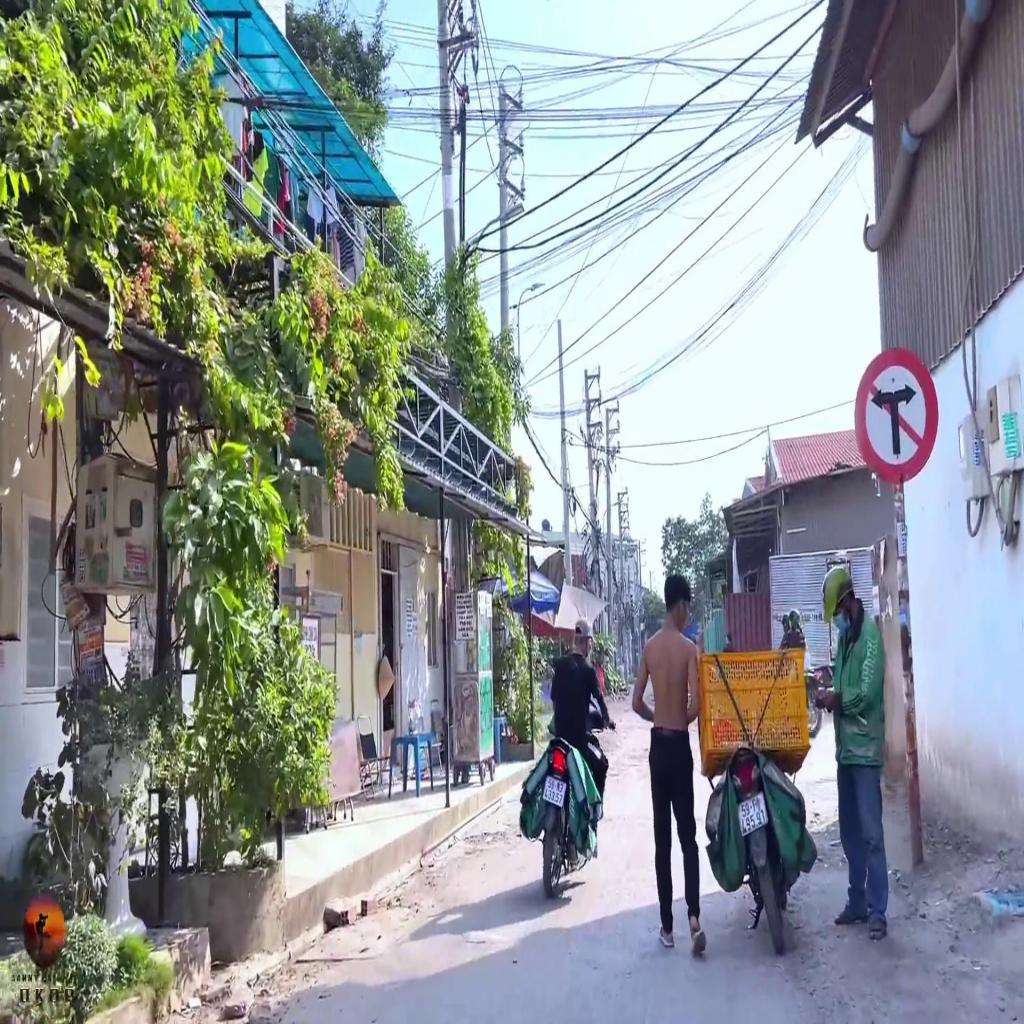cam_re_trai_va_phai: (855, 345, 939, 483)
